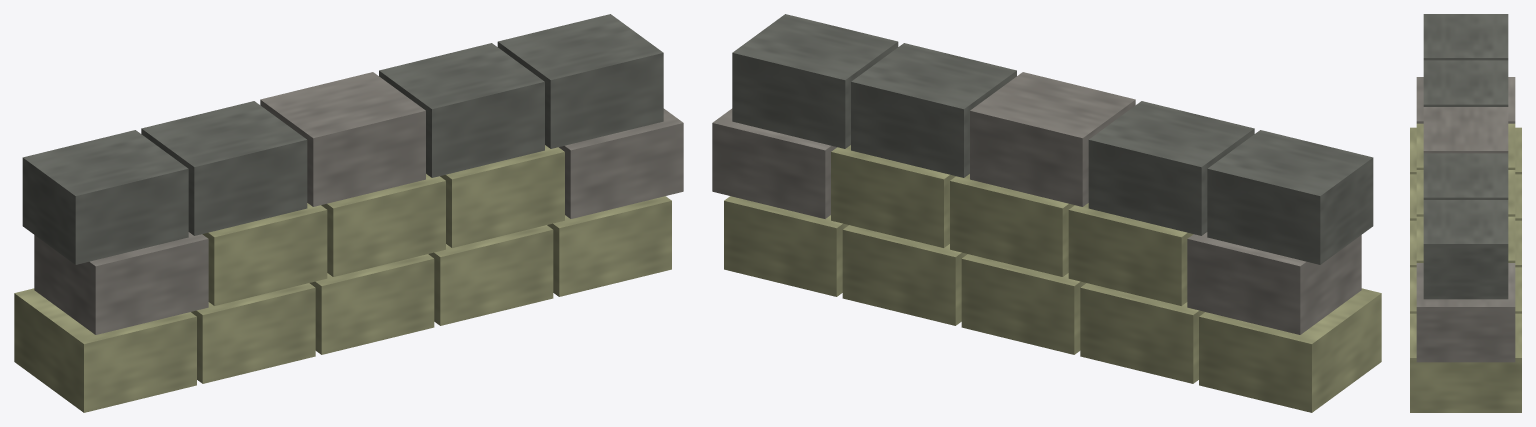
The model's file is fence_stone_low.fbx.
3 views of the same model, side by side, from view 1: azimuth 30°, elevation 25°; view 2: azimuth 150°, elevation 25°; view 3: azimuth 270°, elevation 25° (orthographic). The views are drawn at different scales.
Parts seen in each view (by area): view 1: fence_stone_low; view 2: fence_stone_low; view 3: fence_stone_low.
Part boxes in pixels (left/top/right/bottom): fence_stone_low: left=14, top=14, right=683, bottom=412; fence_stone_low: left=712, top=14, right=1381, bottom=412; fence_stone_low: left=1410, top=14, right=1521, bottom=412.
Bounding box in the file's own units: 300 × 100 × 60.
1 material, 1 textured.
